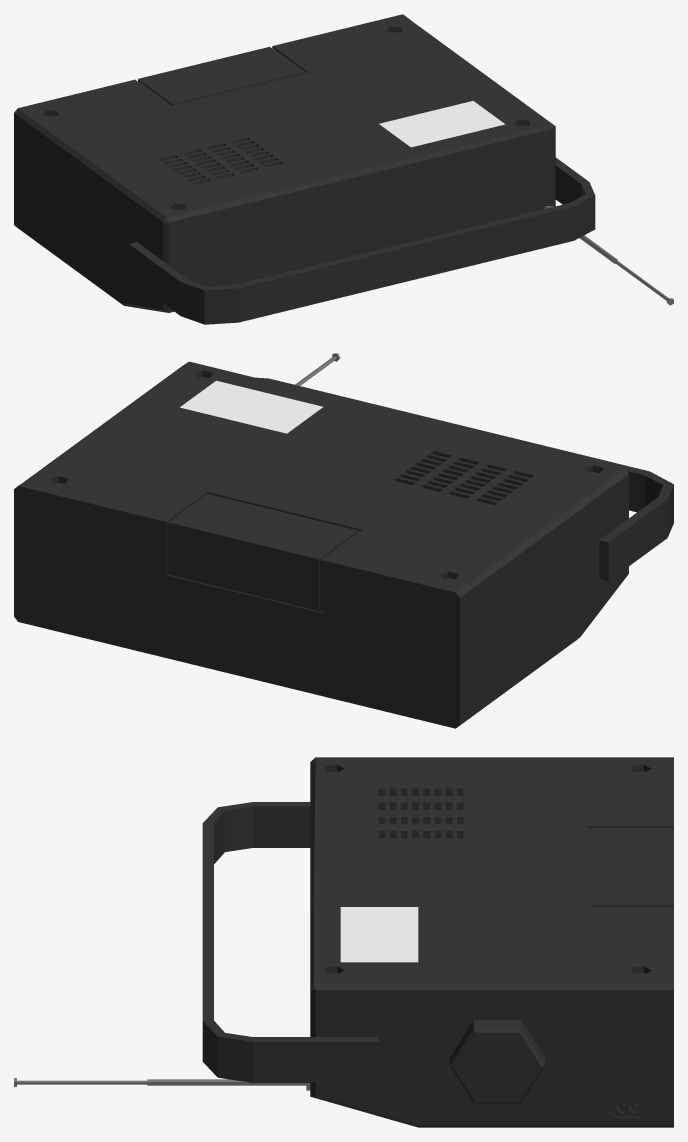
File: Radio.glb
The picture shows the model from 3 angles, top to bottom: view 1: azimuth 30°, elevation 25°; view 2: azimuth 150°, elevation 25°; view 3: azimuth 270°, elevation 25°; orthographic projection. The views are drawn at different scales.
Visible parts, largest first — view 1: Radio; view 2: Radio; view 3: Radio.
Part boxes in pixels (<box>): Radio: <box>14,14,673,324</box>; Radio: <box>14,353,673,728</box>; Radio: <box>14,757,673,1127</box>.
Bounding box in the file's own units: 0.51 × 0.16 × 0.581.
1 material, 1 textured.
